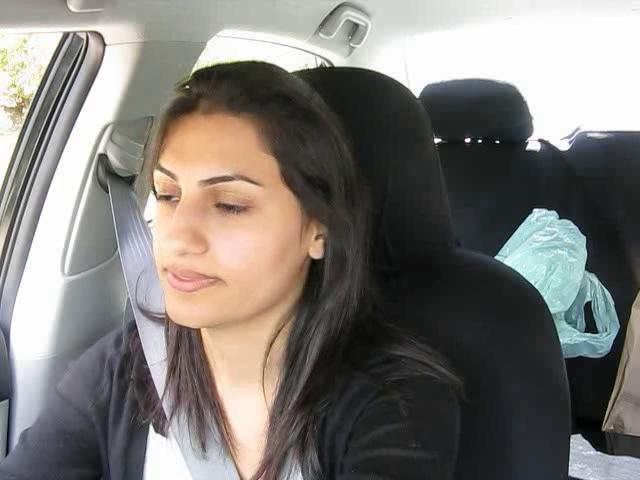close_eyeL: (148, 181, 189, 212)
close_eyeR: (200, 189, 265, 226)
no_yawn: (150, 258, 234, 300)
